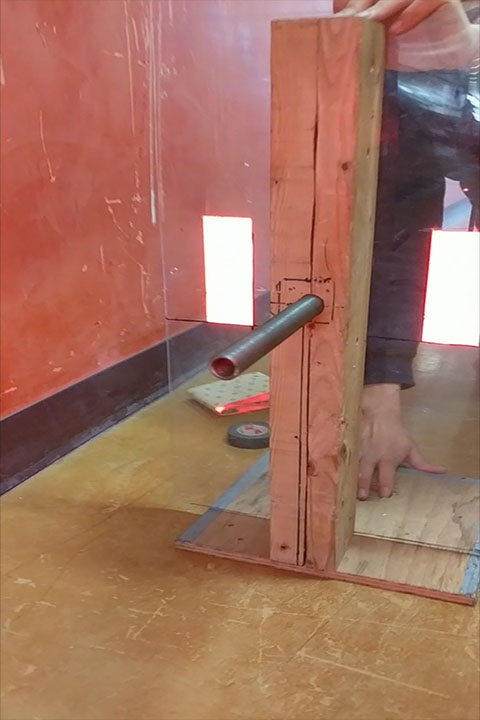gear: (421, 228, 480, 343), (201, 215, 254, 325)
